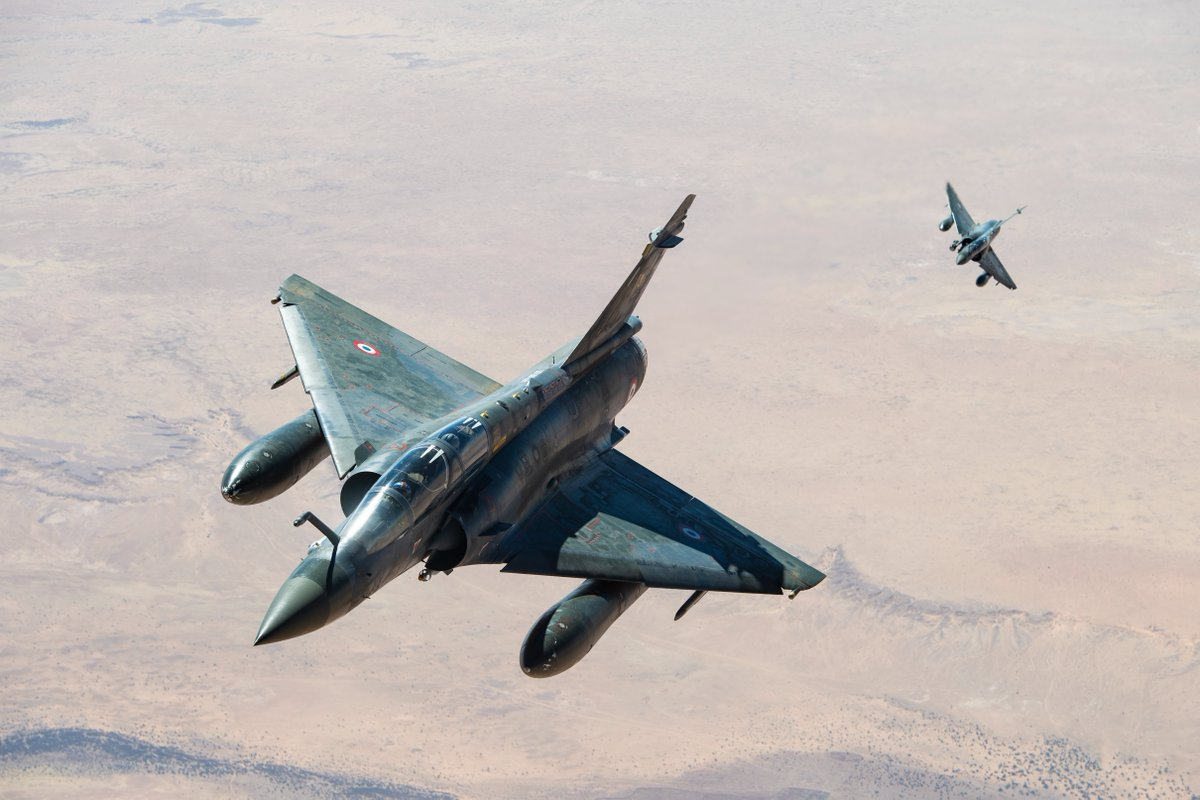Mirage2000: (220, 193, 828, 679), (938, 180, 1028, 290)
